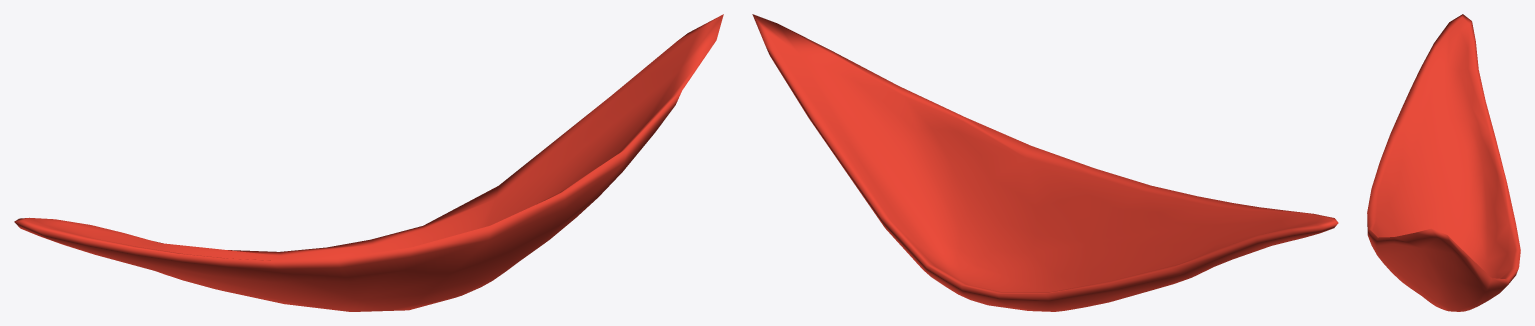
File: Patellar_tendon_apex_patella_left.glb
3 views of the same model, side by side, from view 1: azimuth 30°, elevation 25°; view 2: azimuth 150°, elevation 25°; view 3: azimuth 270°, elevation 25° (orthographic). The views are drawn at different scales.
Parts seen in each view (by area): view 1: Patellar_tendon_on_apex_of_patella.l_Generated_Mesh_From_X3D; view 2: Patellar_tendon_on_apex_of_patella.l_Generated_Mesh_From_X3D; view 3: Patellar_tendon_on_apex_of_patella.l_Generated_Mesh_From_X3D.
Part boxes in pixels (x1,y1,x2,y2): Patellar_tendon_on_apex_of_patella.l_Generated_Mesh_From_X3D: (14, 14, 723, 311); Patellar_tendon_on_apex_of_patella.l_Generated_Mesh_From_X3D: (752, 14, 1338, 311); Patellar_tendon_on_apex_of_patella.l_Generated_Mesh_From_X3D: (1367, 14, 1520, 311).
Size of the model in its own units: 0.029 by 0.00935 by 0.00734.
